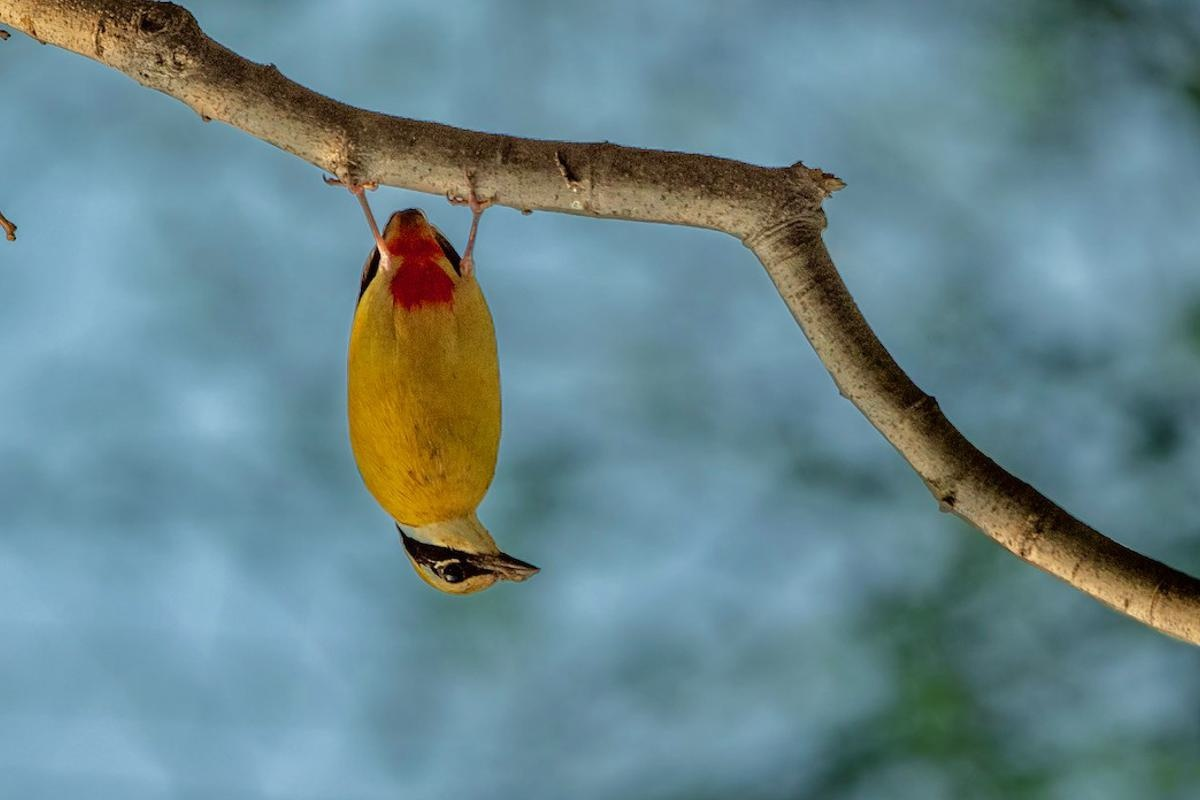pitta: (340, 142, 537, 635)
